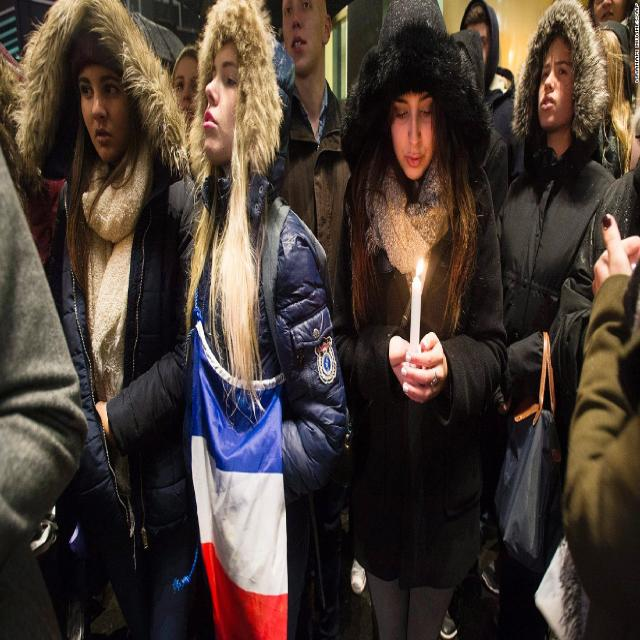body: (9, 0, 198, 639), (328, 0, 512, 639), (186, 30, 349, 640), (494, 0, 615, 640), (0, 55, 126, 636), (537, 208, 639, 637), (270, 0, 354, 305), (588, 0, 640, 204), (446, 0, 509, 93), (167, 45, 202, 116)
